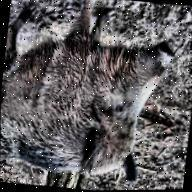boar: (0, 2, 179, 180)
